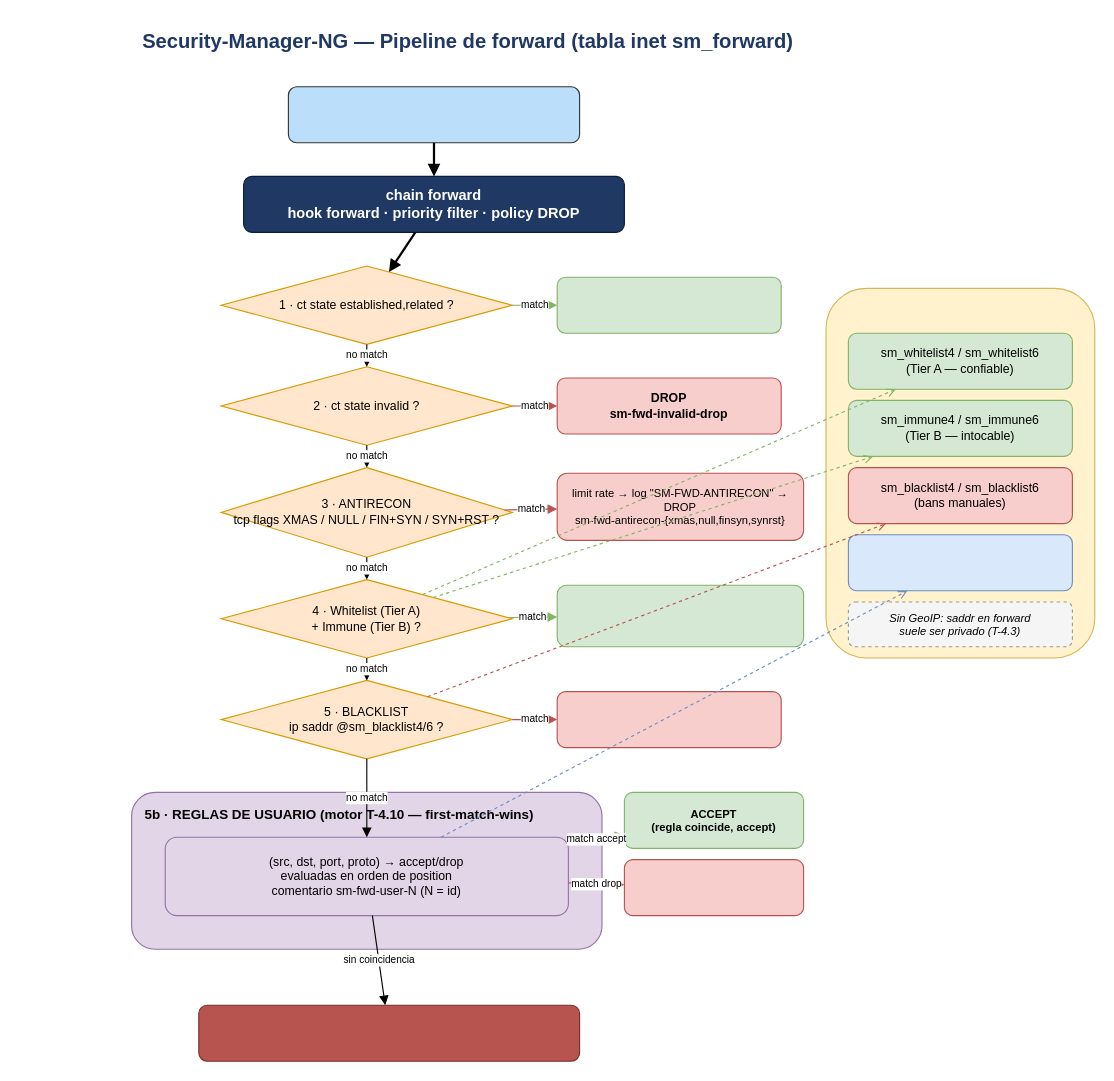
Image size: 1114x1081. Some labels were removed from this diagram. The box of each missing label's shape, as (x1, y1, x2, y2) in pixels:
6 · POLICY DROP · log "SM-FWD-DROP-DEFAULT" sm-fwd-default-drop: (198, 1004, 580, 1061)
ACCEPT (bypass total) sm-fwd-whitelist4/6, sm-fwd-immune4/6: (556, 584, 804, 647)
ACCEPT (fast-path) sm-fwd-fastpath: (556, 276, 781, 333)
DROP (regla coincide, drop): (623, 858, 804, 916)
DROP sm-fwd-blacklist4/6: (556, 690, 781, 748)
internal/store (sm-ng.db) forward_rules — motor T-4.10: (847, 534, 1072, 591)
SETS (duplicados de table inet sm — nftables no comparte sets entre tablas): (825, 287, 1095, 658)
📥 Paquete en tránsito (routing / Docker / VPN): (287, 86, 580, 143)
